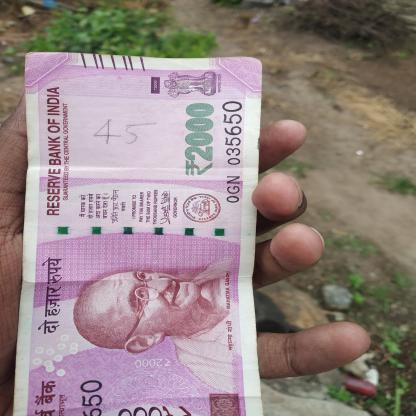New2000Front: (20, 53, 254, 416)
